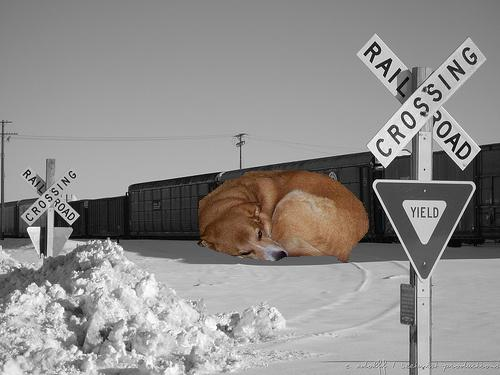tampered: (198, 171, 369, 263)
